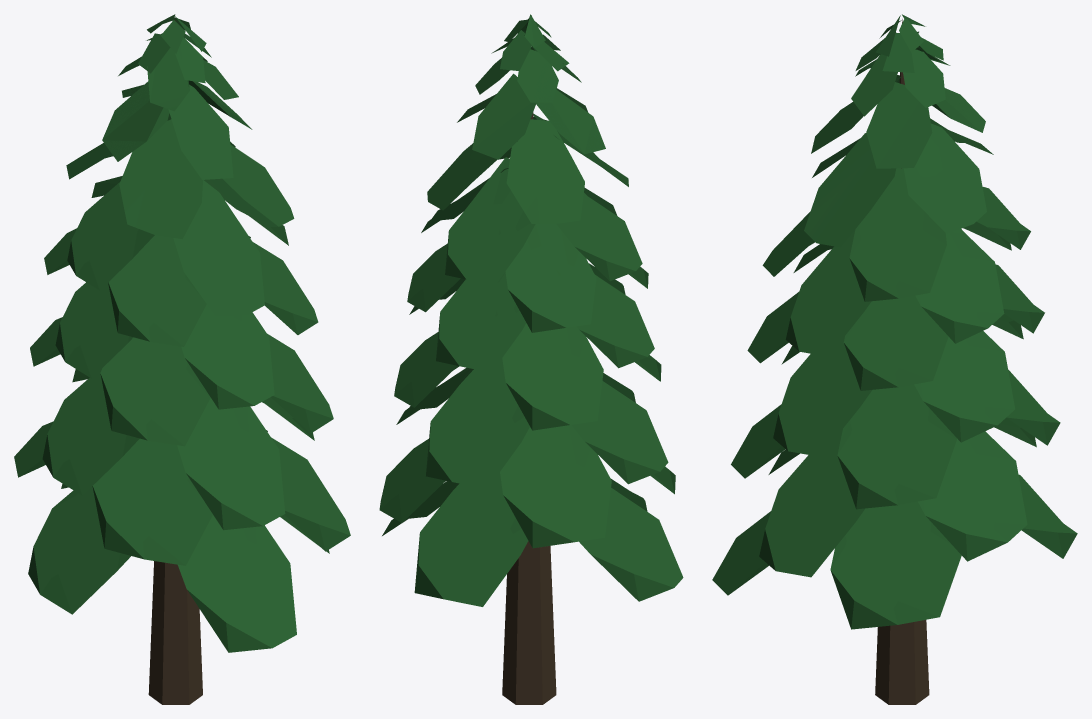
File: Snowy Forest Tree 3.fbx
The picture shows the model from 3 angles, left to right: view 1: azimuth 30°, elevation 25°; view 2: azimuth 150°, elevation 25°; view 3: azimuth 270°, elevation 25°; orthographic projection.
Visible parts, largest first — view 1: Cylinder.019; view 2: Cylinder.019; view 3: Cylinder.019.
Part boxes in pixels (x1,y1,x2,y2): Cylinder.019: [14, 14, 350, 704]; Cylinder.019: [379, 14, 683, 704]; Cylinder.019: [712, 14, 1077, 704].
Bounding box in the file's own units: 847 × 1963 × 956.
